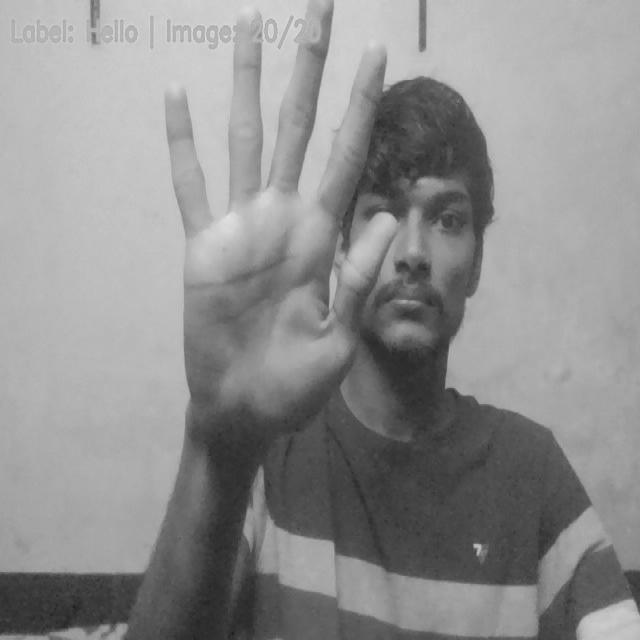Hello: (160, 0, 403, 428)
